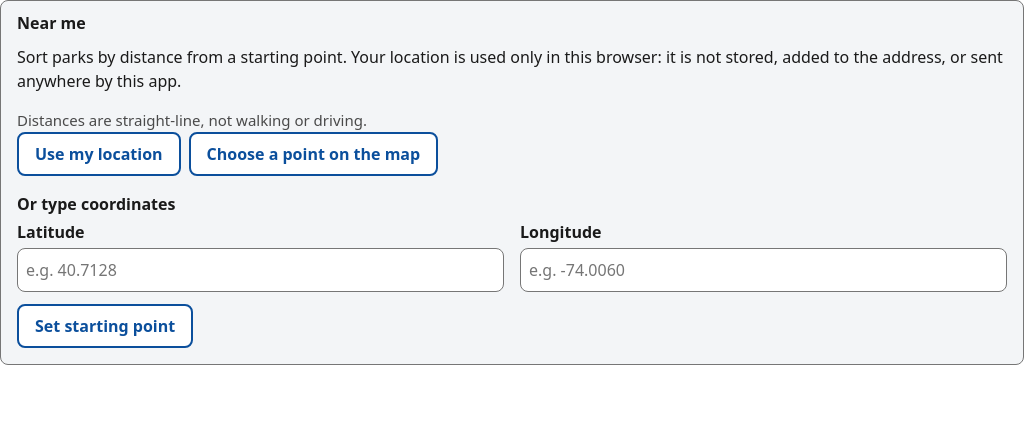
Test: NearMePanel: device location › error code 1 gives a clear message and no starting point
The image size is (1024, 438).
Click the button "Use my location" at (99, 154), box [17,132,181,176]
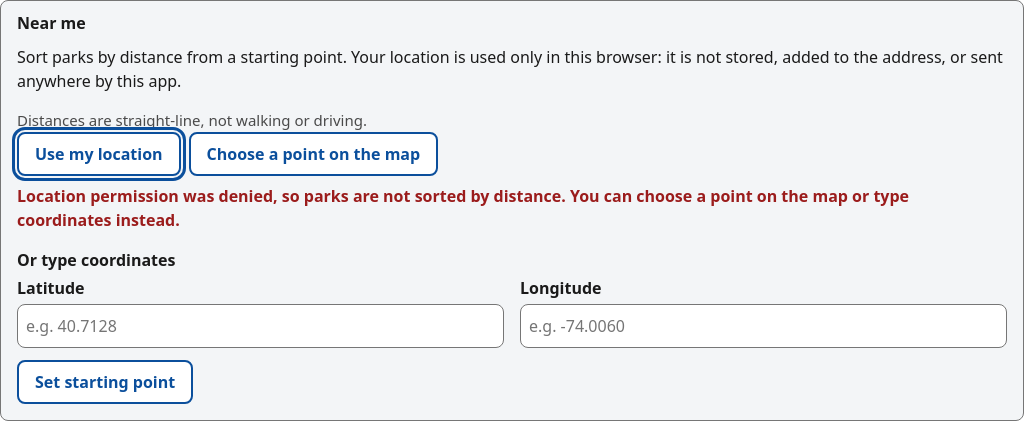
Expected: the message shows "permission was denied", [17,184,909,230]
Expected: the message shows "choose a point on the map or type coordinates", [17,184,909,230]
